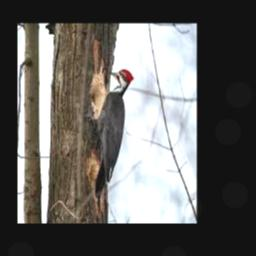Woodpecker: (88, 68, 133, 213)
